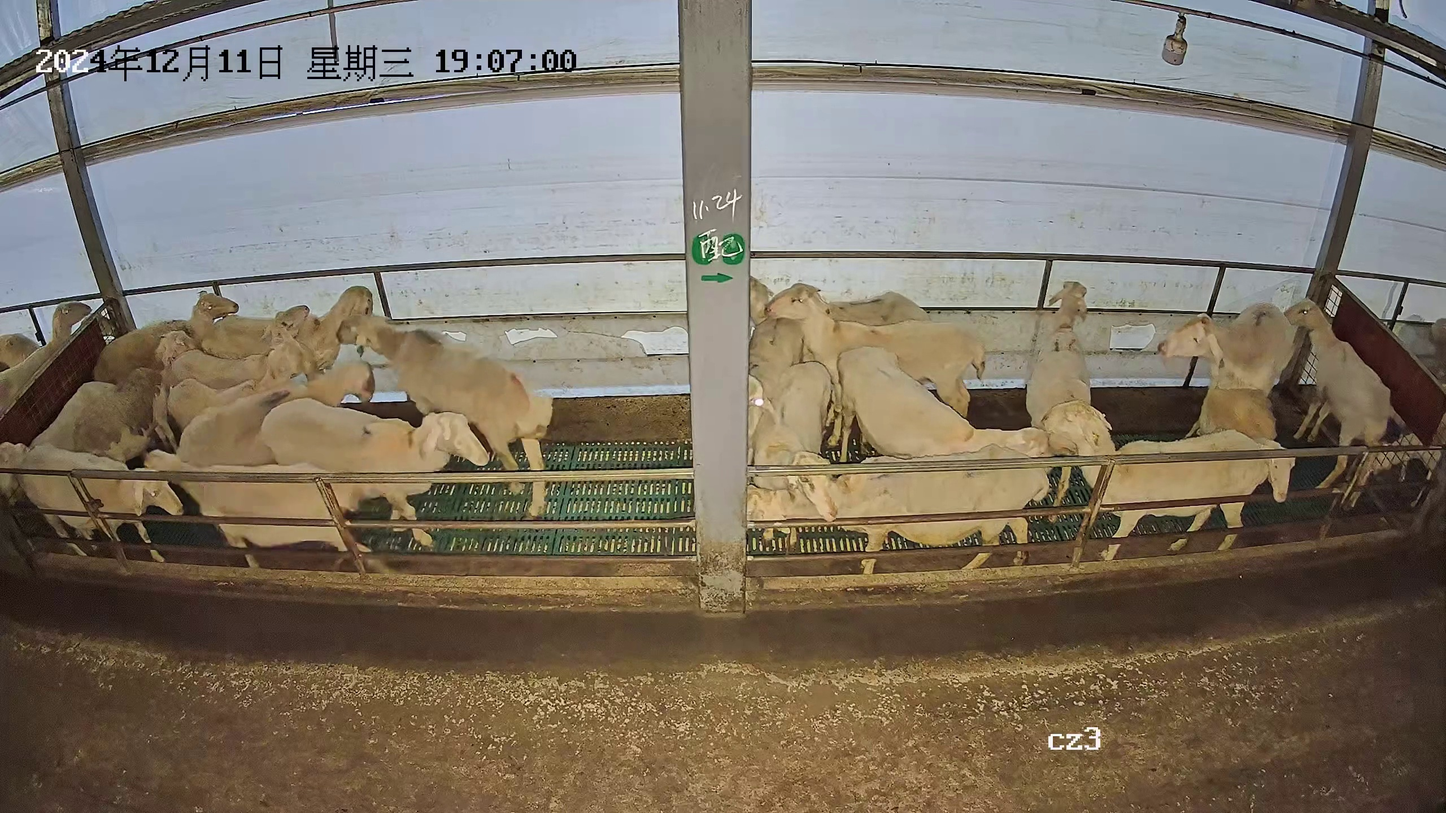Smounting: (1155, 299, 1302, 506)
mounted: (1198, 380, 1299, 504)
